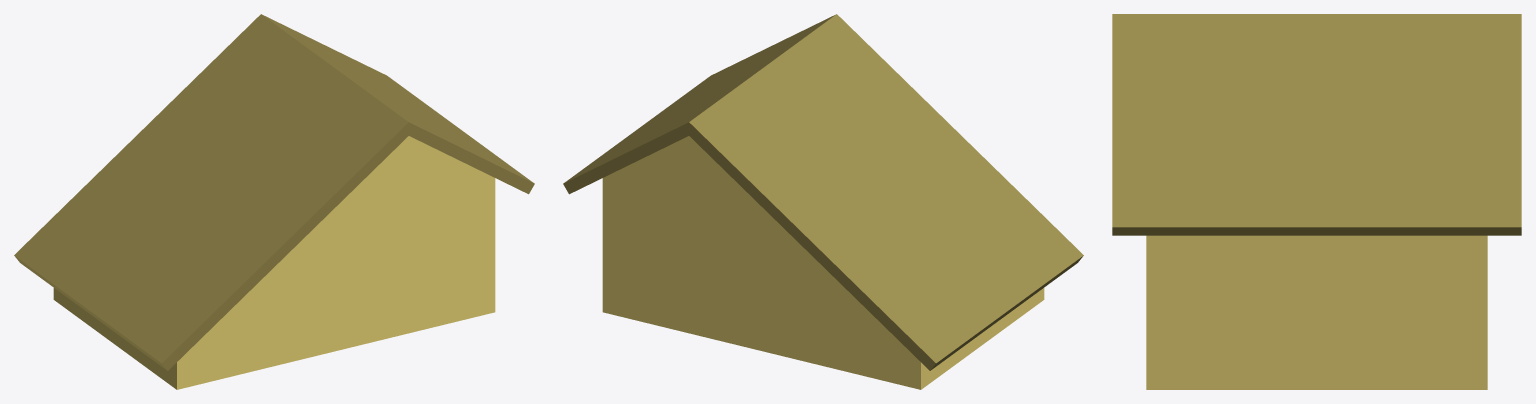
The model's file is result.glb.
3 renders of one model, left to right at view 1: azimuth 30°, elevation 25°; view 2: azimuth 150°, elevation 25°; view 3: azimuth 270°, elevation 25°, orthographic. The views are drawn at different scales.
Visible parts, largest first — view 1: c7d9d512-6aeb-4479-a59b-c2b0bc2aab2c__undefined (×2), f8d3a893-5f51-474c-8e30-a829b98d5e58__undefined; view 2: c7d9d512-6aeb-4479-a59b-c2b0bc2aab2c__undefined (×2), f8d3a893-5f51-474c-8e30-a829b98d5e58__undefined; view 3: c7d9d512-6aeb-4479-a59b-c2b0bc2aab2c__undefined, f8d3a893-5f51-474c-8e30-a829b98d5e58__undefined.
Boxes of the visible parts, box(x1,y1,x2,y2) form: c7d9d512-6aeb-4479-a59b-c2b0bc2aab2c__undefined (×2): box(14, 14, 534, 370); f8d3a893-5f51-474c-8e30-a829b98d5e58__undefined: box(53, 136, 495, 389); c7d9d512-6aeb-4479-a59b-c2b0bc2aab2c__undefined (×2): box(563, 14, 1083, 370); f8d3a893-5f51-474c-8e30-a829b98d5e58__undefined: box(602, 136, 1044, 389); c7d9d512-6aeb-4479-a59b-c2b0bc2aab2c__undefined: box(1112, 14, 1521, 235); f8d3a893-5f51-474c-8e30-a829b98d5e58__undefined: box(1146, 235, 1487, 389).
Size of the model in its own units: 875 by 500 by 600.
